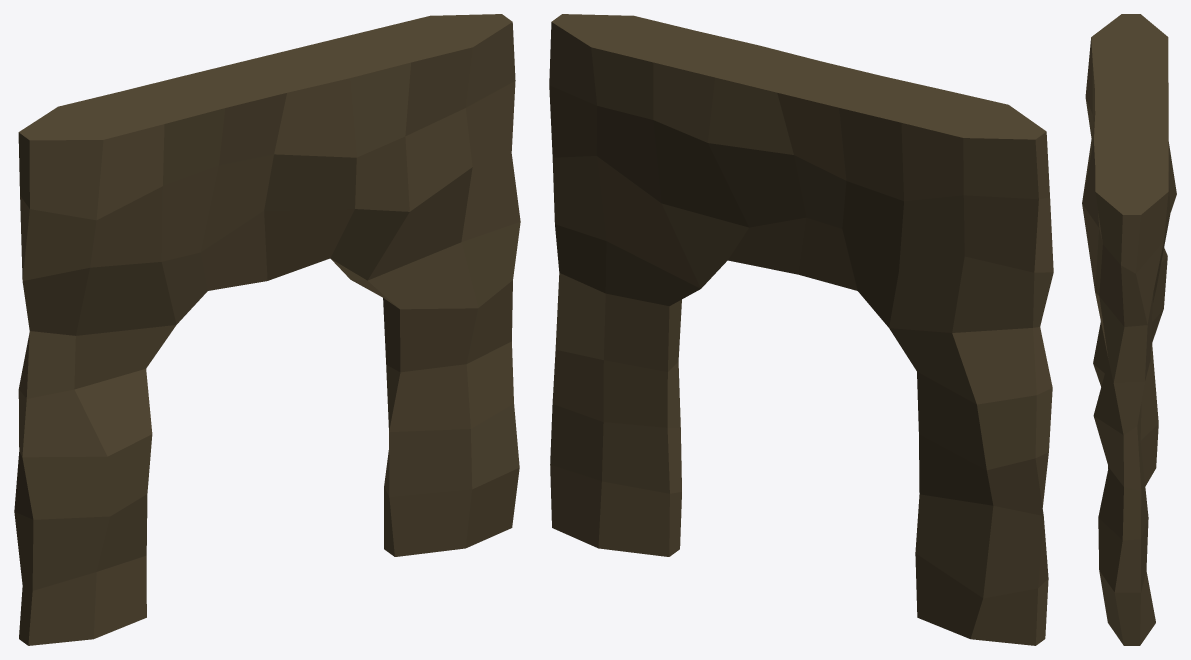
Rendered from BigOpening.L.fbx.
The picture shows the model from 3 angles, left to right: view 1: azimuth 30°, elevation 25°; view 2: azimuth 150°, elevation 25°; view 3: azimuth 270°, elevation 25°; orthographic projection. The views are drawn at different scales.
Parts seen in each view (by area): view 1: Big_Wall Opening.L; view 2: Big_Wall Opening.L; view 3: Big_Wall Opening.L.
Boxes of the visible parts, x1=… form: Big_Wall Opening.L: x1=14, y1=14, x2=520, y2=645; Big_Wall Opening.L: x1=549, y1=14, x2=1053, y2=645; Big_Wall Opening.L: x1=1082, y1=14, x2=1176, y2=645.
Bounding box in the file's own units: 1332 × 1300 × 260.
